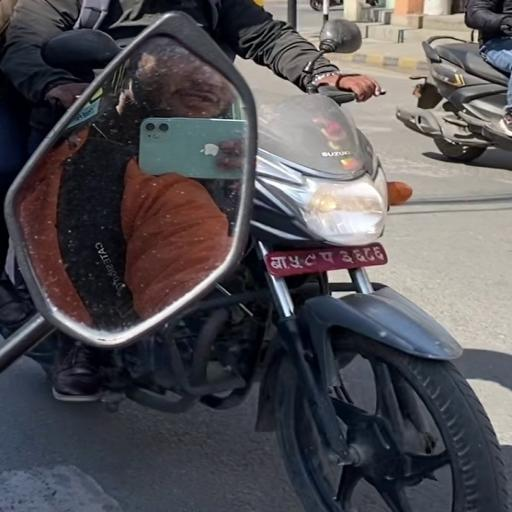license_plate: (264, 237, 394, 278)
